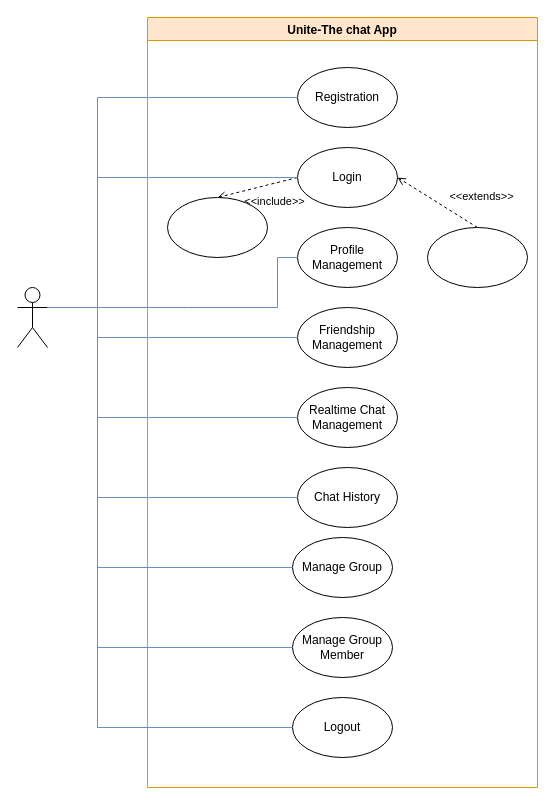
Image size: 555x805. Some labels were removed from this diagram. The centre of each missing label's shape, as x and y in pixels:
Authenticate: [217,227]
Forget Password: [477,257]
User: [32,317]
